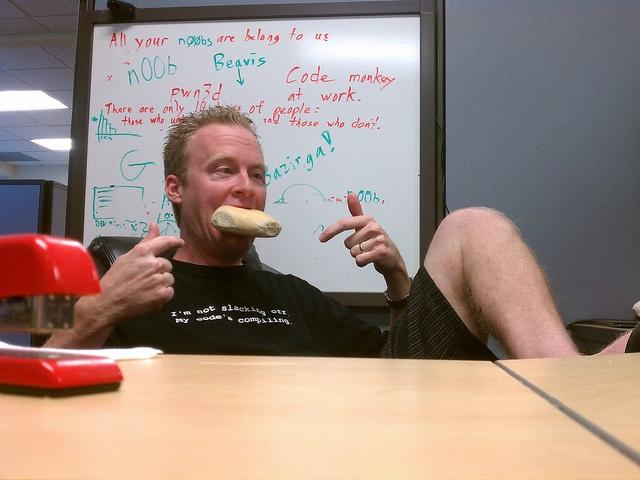Whiteboard: (75, 7, 426, 302)
